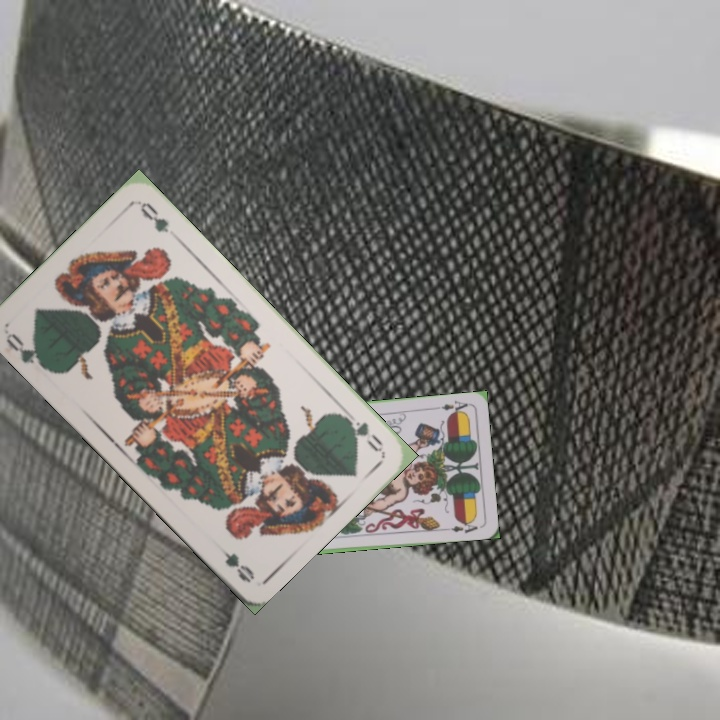EA: (431, 396, 472, 417)
GO: (1, 329, 52, 374), (338, 411, 386, 455)
